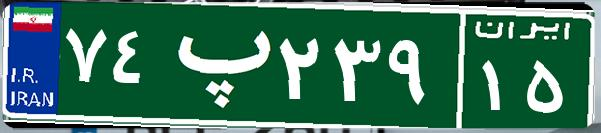1: (475, 38, 525, 113)
2: (273, 28, 330, 110)
3: (330, 28, 385, 110)
4: (110, 28, 158, 105)
5: (525, 38, 570, 115)
7: (57, 26, 110, 107)
9: (385, 28, 445, 110)
پ: (158, 15, 273, 115)
